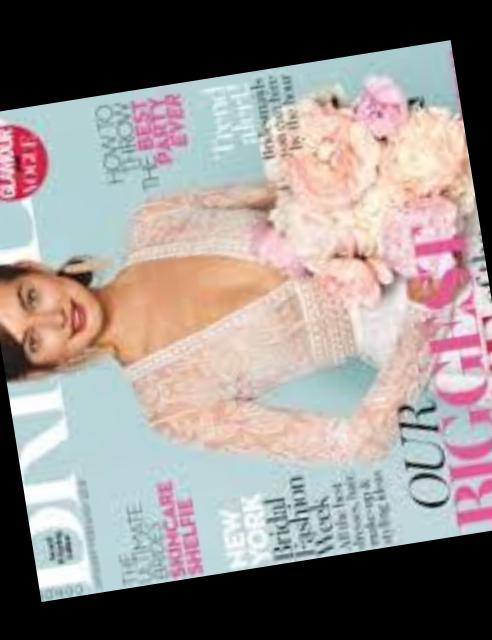cardboard paper: (0, 39, 492, 601)
